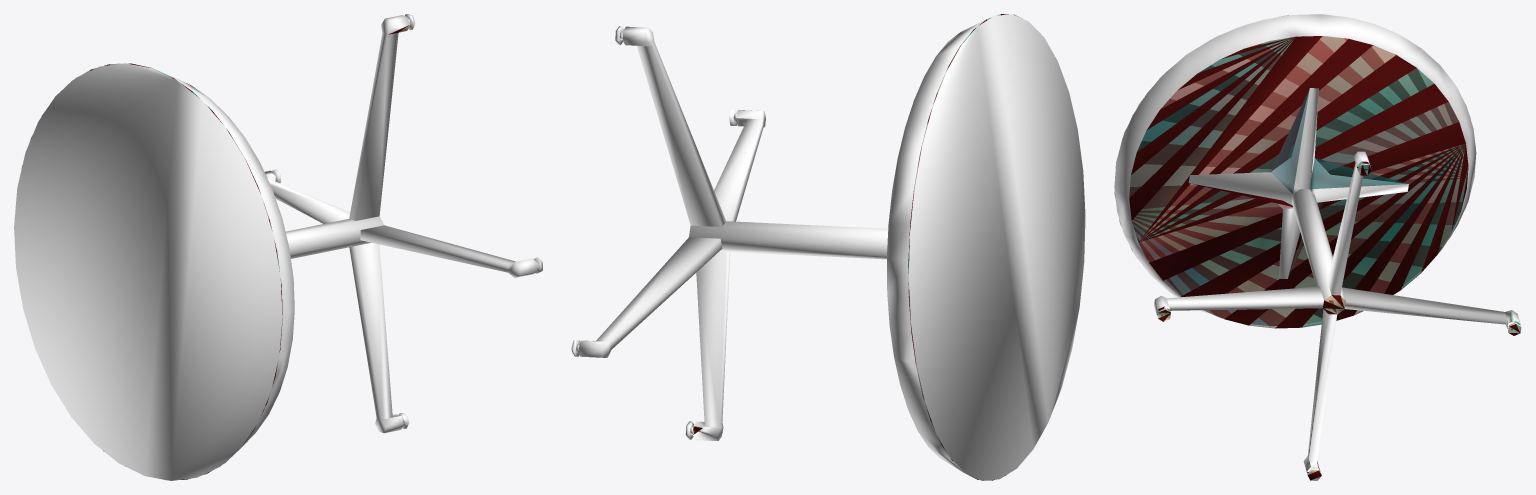
3 renders of one model, left to right at view 1: azimuth 30°, elevation 25°; view 2: azimuth 150°, elevation 25°; view 3: azimuth 270°, elevation 25°, orthographic. The views are drawn at different scales.
Size of the model in its own units: 1.14 by 1.3 by 1.32.
